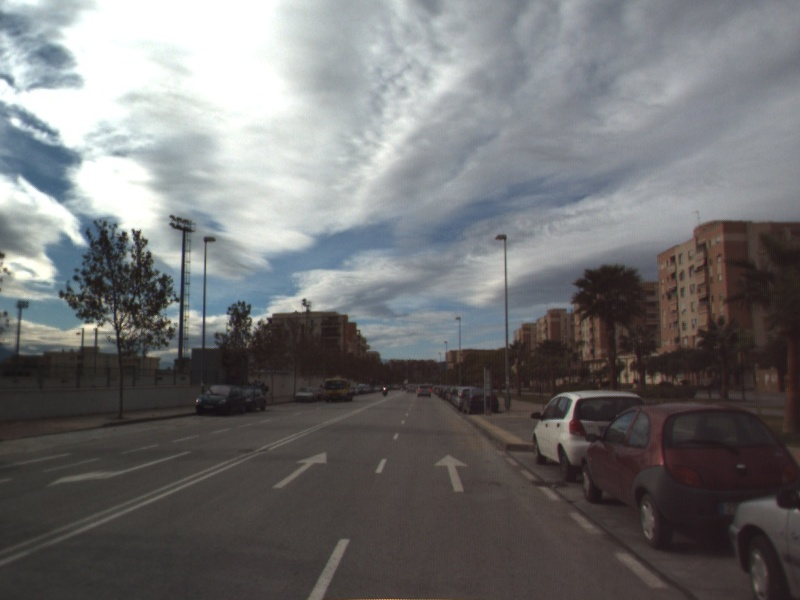STRAIGHT: (270, 450, 329, 490), (432, 452, 470, 494)
